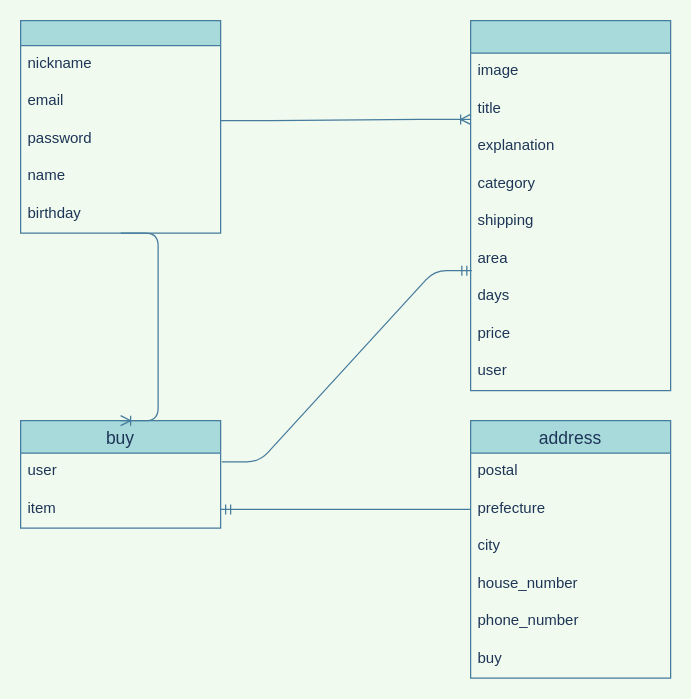
The diagram is 691 pixels wide and 699 high, and some of its shapes have lost their labels. Each missing label, with the box of its shape:
items: (469, 19, 671, 391)
users: (19, 19, 221, 233)
